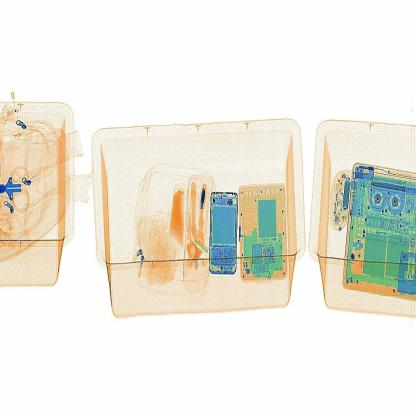gun: (2, 162, 37, 223)
